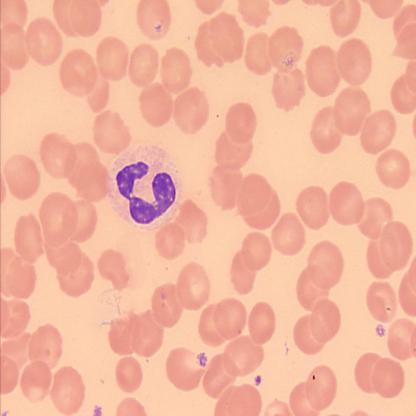Segmented neutrophil: (108, 143, 183, 234)
